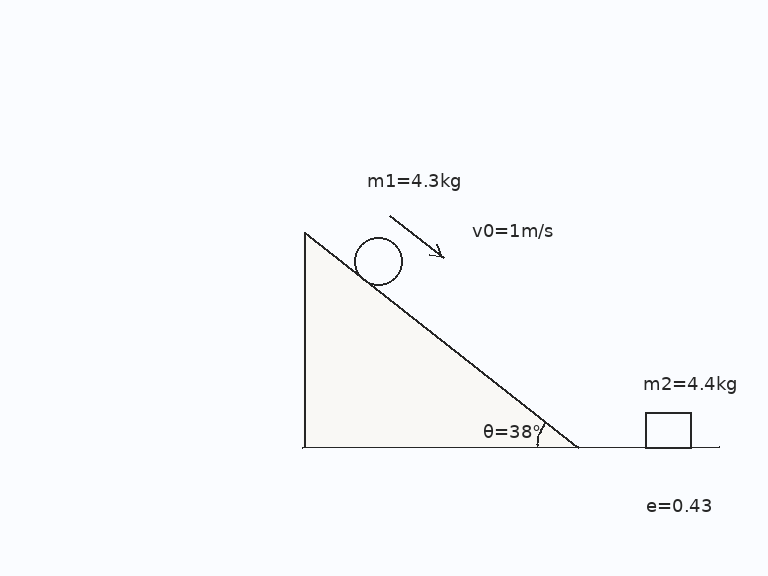ball: (352, 235, 404, 287)
block: (643, 411, 693, 449)
ramp: (302, 231, 579, 449)
